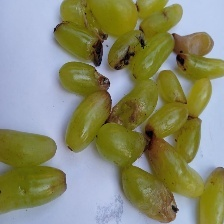grapes: (50, 33, 219, 218)
